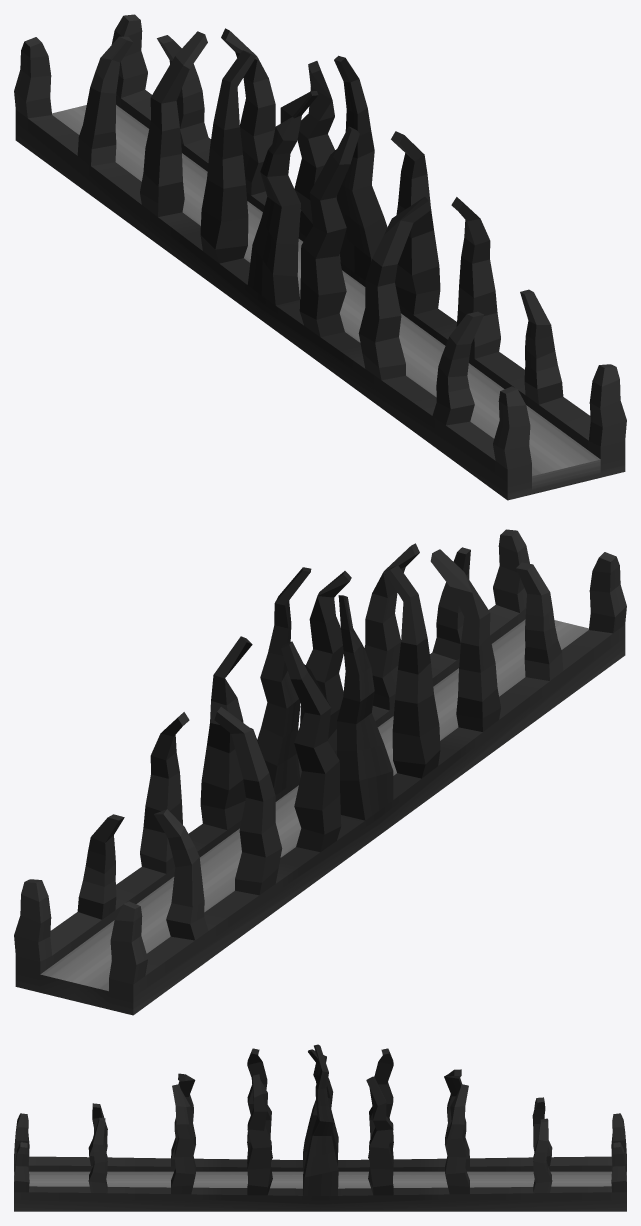
File: bridgePortal.glb
The picture shows the model from 3 angles, top to bottom: view 1: azimuth 30°, elevation 25°; view 2: azimuth 150°, elevation 25°; view 3: azimuth 270°, elevation 25°; orthographic projection. The views are drawn at different scales.
Parts seen in each view (by area): view 1: Cube; view 2: Cube; view 3: Cube.
Boxes of the visible parts, <box> form: Cube: <box>14,14,626,500</box>; Cube: <box>14,529,626,1015</box>; Cube: <box>14,1044,626,1211</box>.
Bounding box in the file's own units: 7.94 × 14.83 × 53.69.
1 material, 1 textured.
